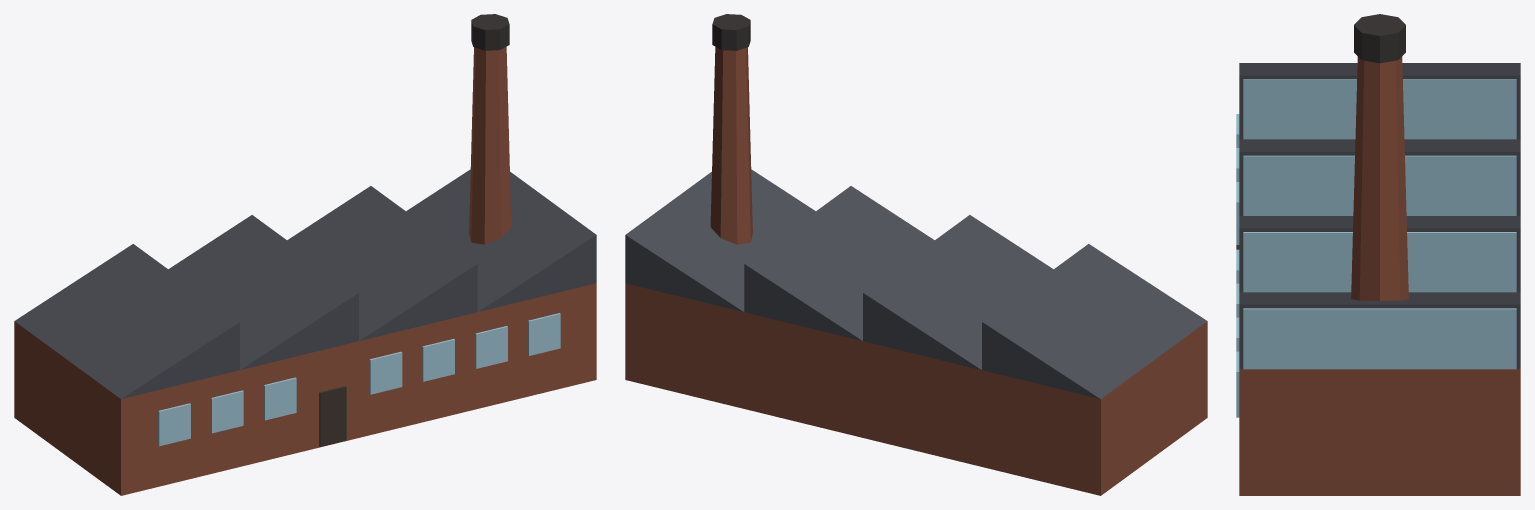
File: factory.glb
3 renders of one model, left to right at view 1: azimuth 30°, elevation 25°; view 2: azimuth 150°, elevation 25°; view 3: azimuth 270°, elevation 25°, orthographic. The views are drawn at different scales.
Parts seen in each view (by area): view 1: Factory; view 2: Factory; view 3: Factory.
Part boxes in pixels (left/top/right/bottom): Factory: left=14, top=14, right=596, bottom=495; Factory: left=625, top=14, right=1207, bottom=495; Factory: left=1236, top=14, right=1520, bottom=495.
Size of the model in its own units: 36.1 by 24 by 14.15.
